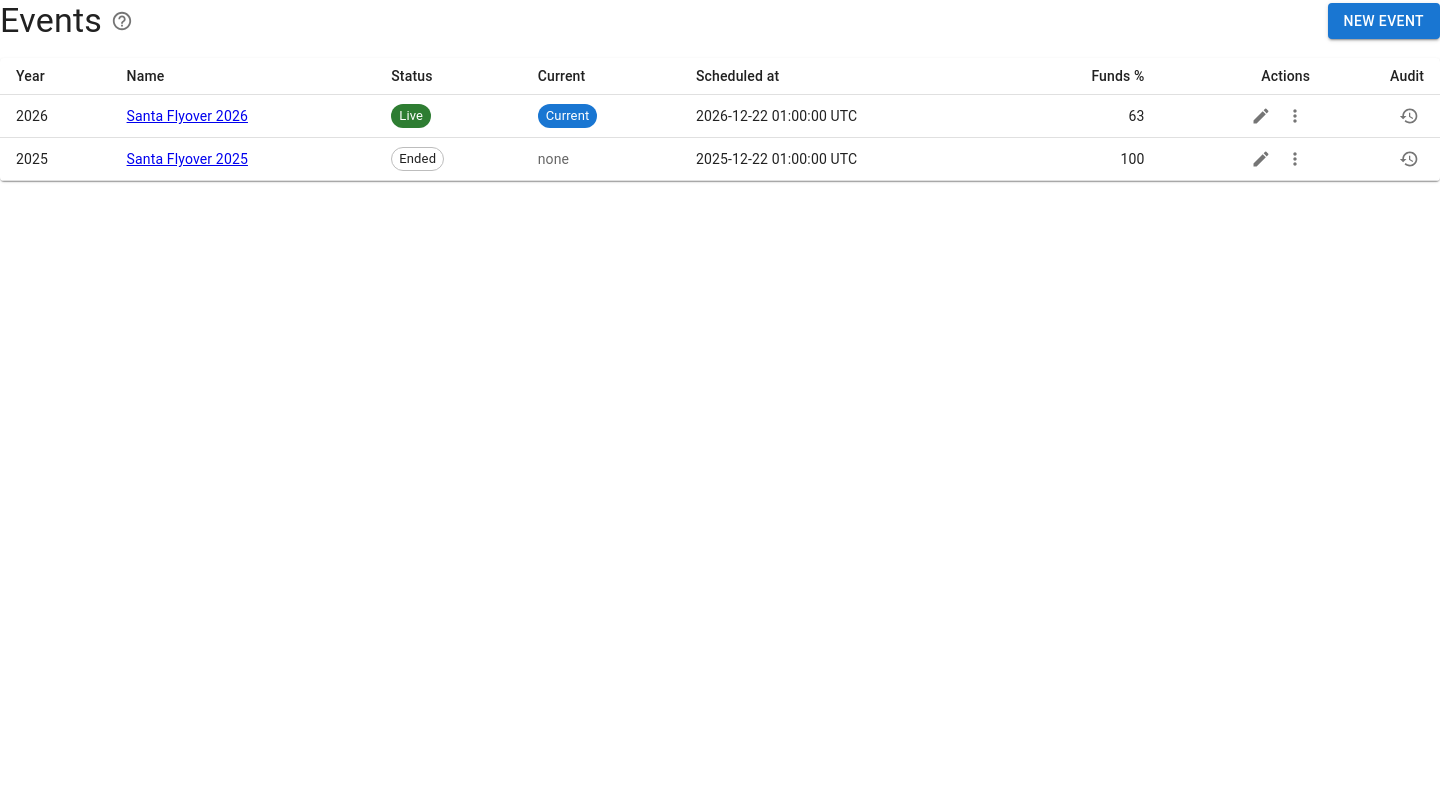
Test: EventsList rows › clicking Delete on a deletable event opens the impact dialog with its name
Click the button named "Actions for Santa Flyover 2025".
click(1295, 159)  # box [1280, 144, 1310, 174]
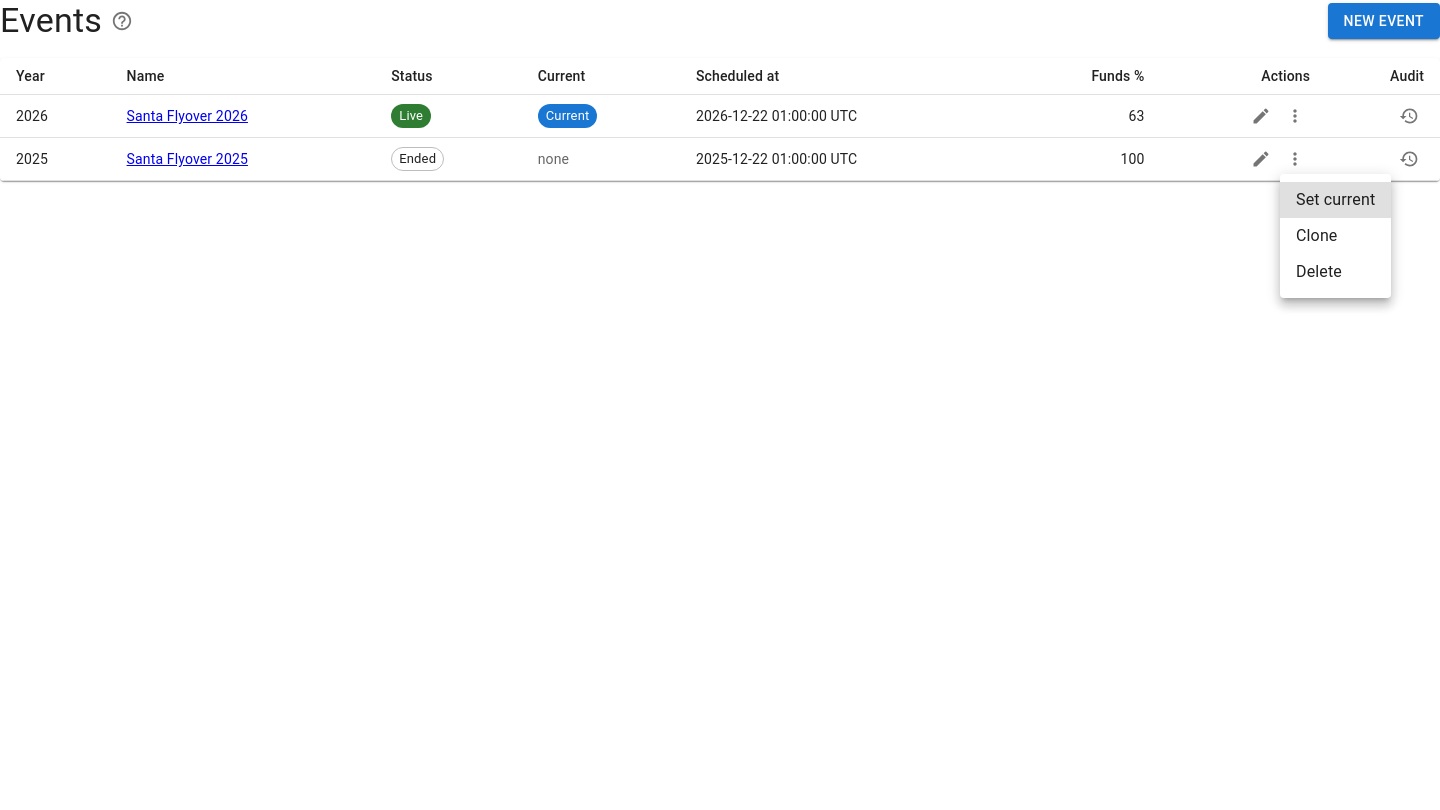
Click the menu item "Delete".
click(1319, 272)  # box [1296, 262, 1342, 281]
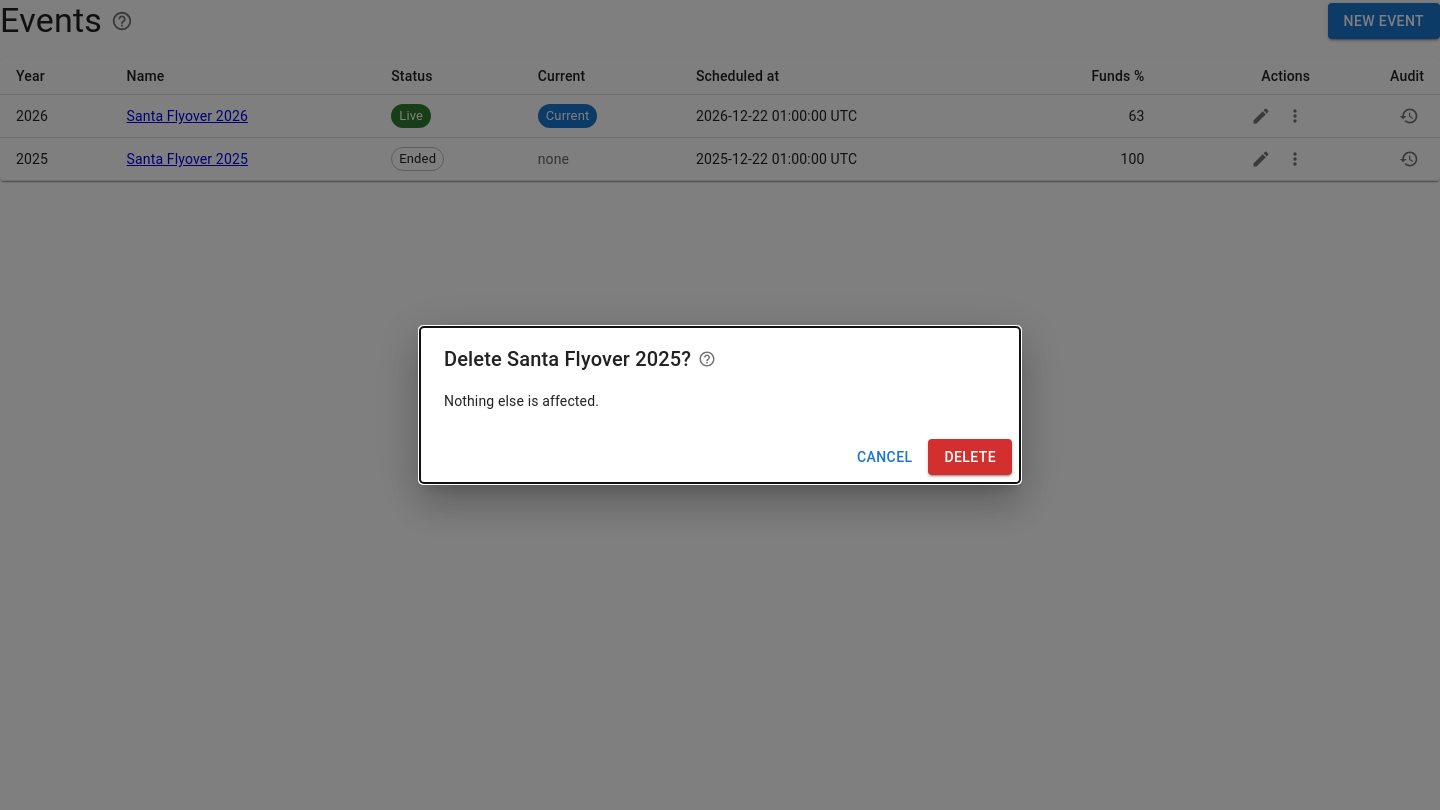
Now the button with test id "help-events.delete" is shown, box [695, 347, 719, 371]
